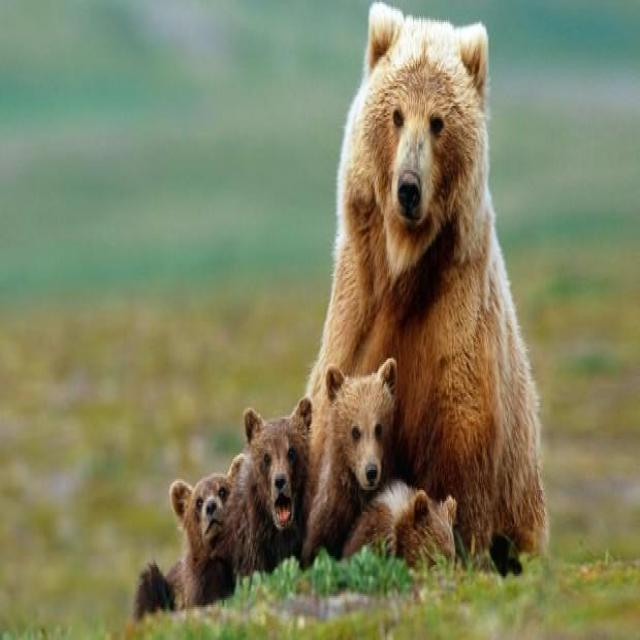Bear: (330, 4, 548, 556), (320, 360, 396, 558), (243, 402, 312, 572), (169, 461, 242, 605), (344, 483, 458, 572)
